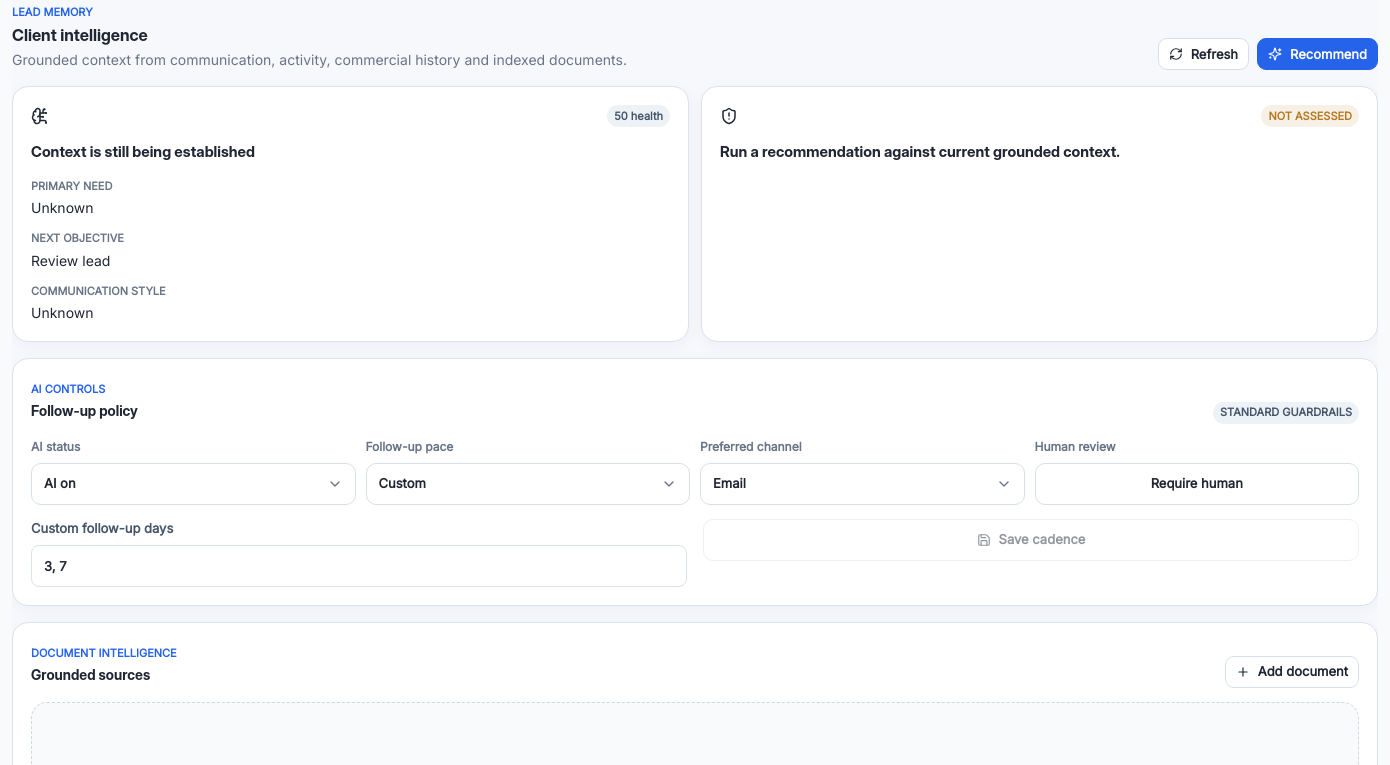
Test case: LeadIntelligencePanel custom cadence › edits saved positive days and saves a sorted unique custom cadence
The width and height of the screenshot is (1390, 765).
Expected: the button "Save cadence" is disabled, 703,519 -> 1359,561
Replace the text in the field labelled "Custom follow-up days" with "9, 2, 5, 2" at (359, 566), box 31,546 -> 687,588
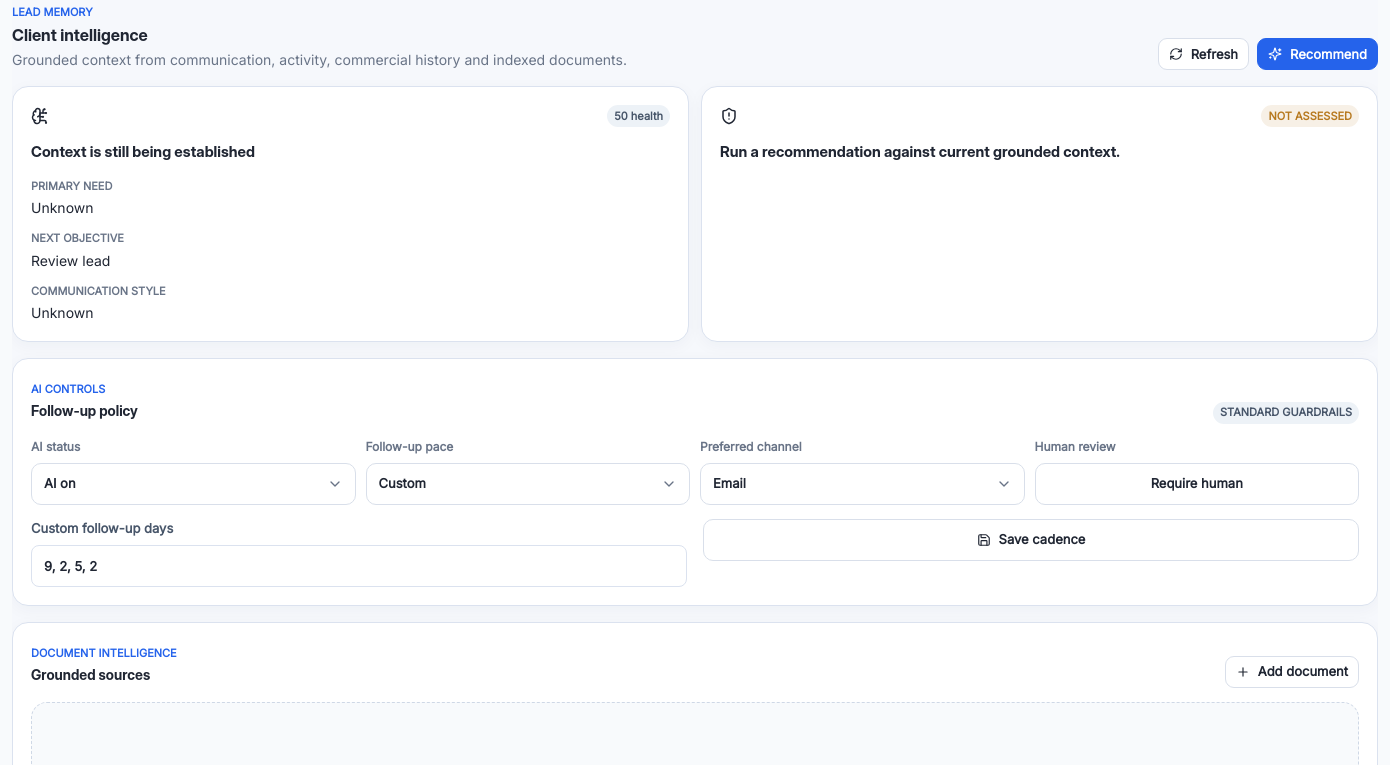
Click the button "Save cadence" at (1031, 540), box 703,519 -> 1359,561
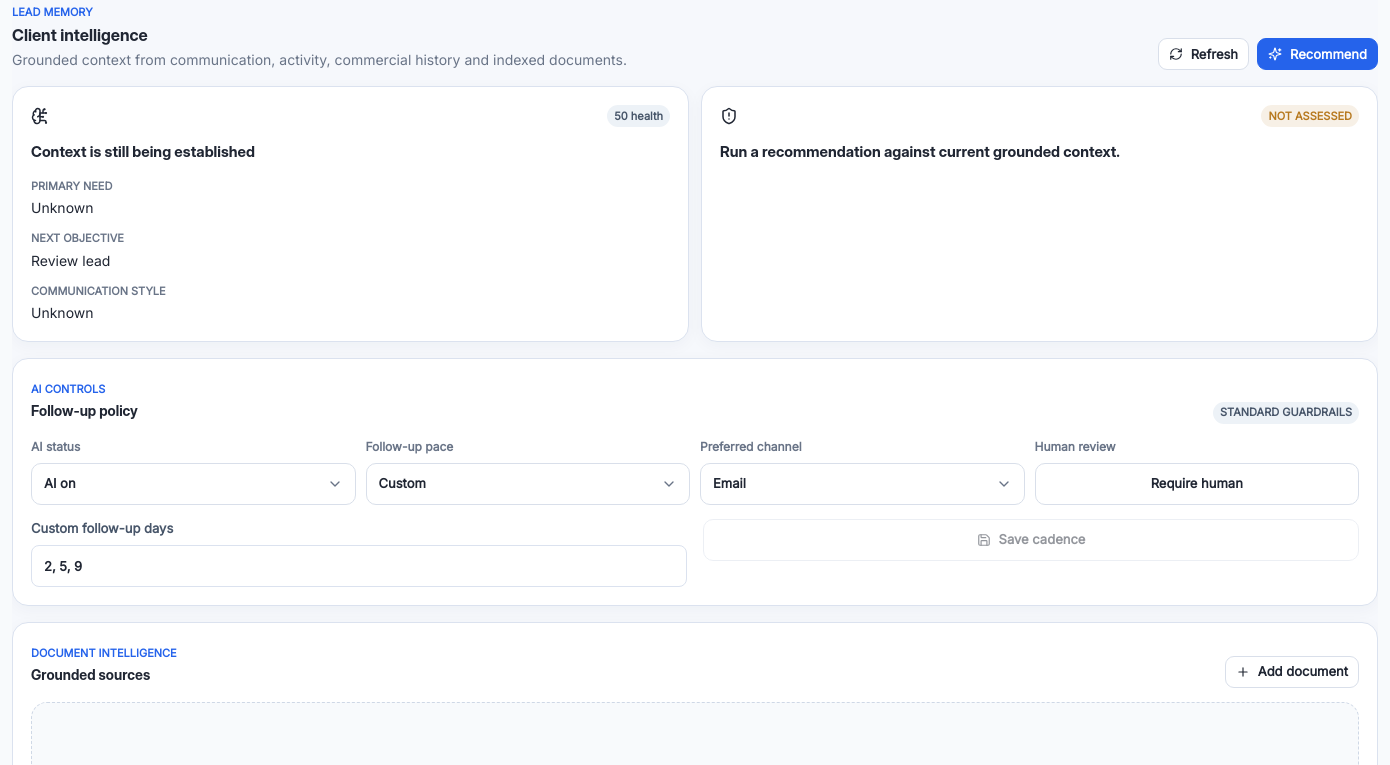
Expected: the field labelled "Custom follow-up days" holds "2, 5, 9", 31,546 -> 687,588
